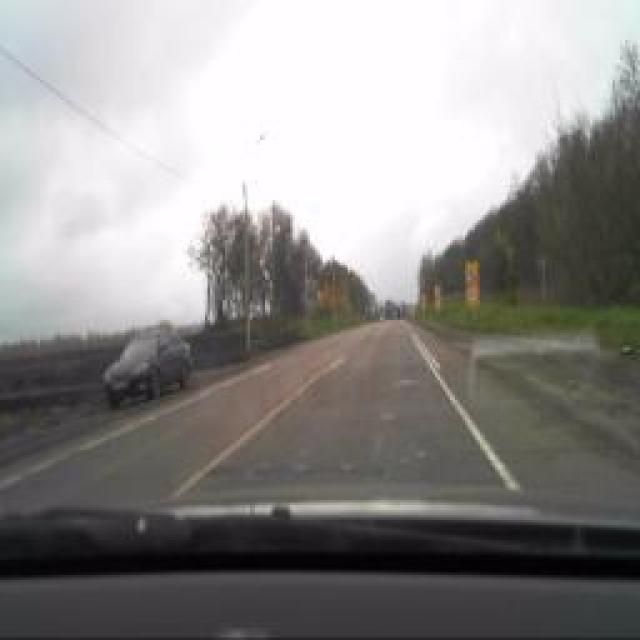sign: (464, 285, 478, 305)
